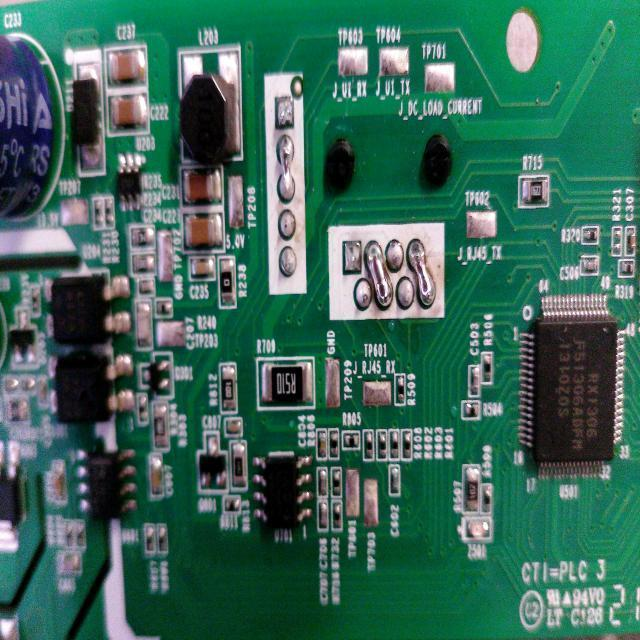Soldering shorted: (364, 237, 396, 315), (408, 238, 438, 306), (274, 132, 300, 210)
